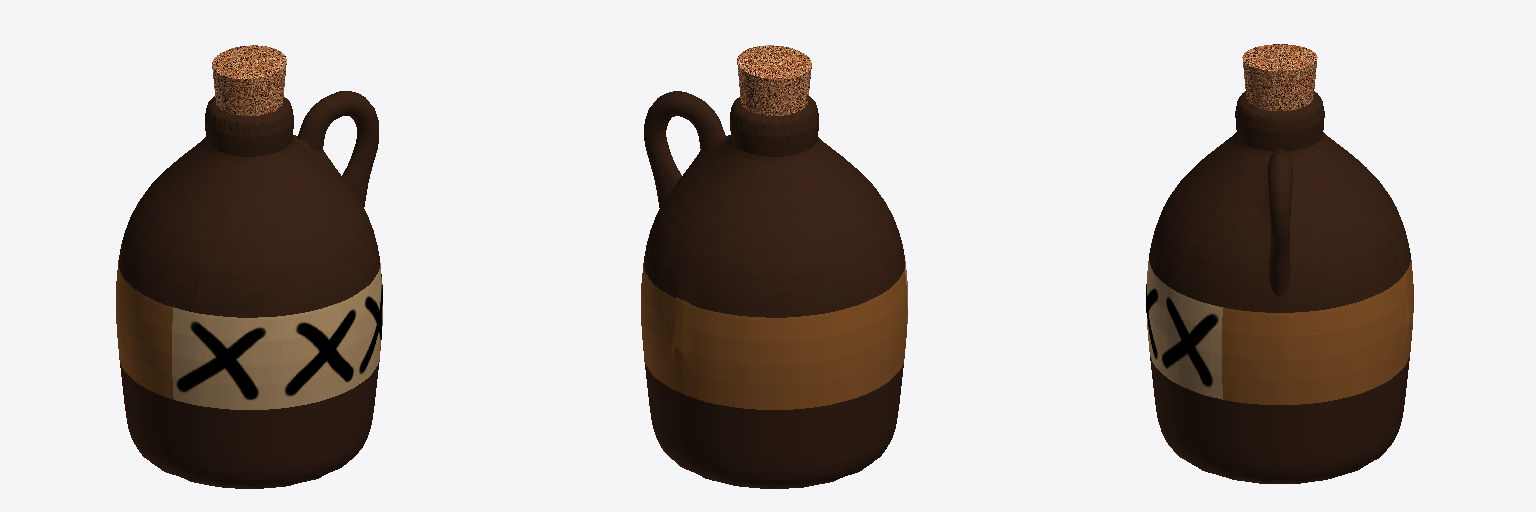
The picture shows the model from 3 angles: view 1: azimuth 30°, elevation 25°; view 2: azimuth 150°, elevation 25°; view 3: azimuth 270°, elevation 25°; orthographic projection.
Parts seen in each view (by area): view 1: pTorus2; view 2: pTorus2; view 3: pTorus2.
Part boxes in pixels (left/top/right/bottom): pTorus2: left=116, top=45, right=382, bottom=488; pTorus2: left=641, top=45, right=907, bottom=488; pTorus2: left=1146, top=44, right=1413, bottom=483.
Size of the model in its own units: 1.67 by 2.57 by 1.58.
Materials: 6 (2 with a texture image).